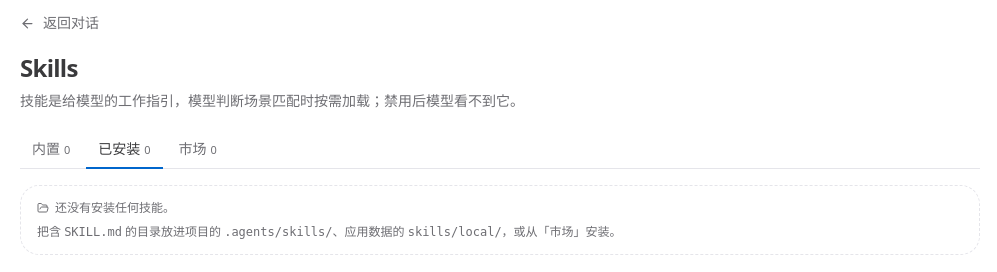
it: SkillsPage › 空列表给出目录引导
This screenshot has width=997, height=272.
expect the text "还没有安装任何技能。" is shown: met, box [37,199,175,216]
expect the text ".agents/skills/" is shown: met, box [224,224,333,238]
Click the tab "内置0" at (51, 150), box [20,131,82,169]
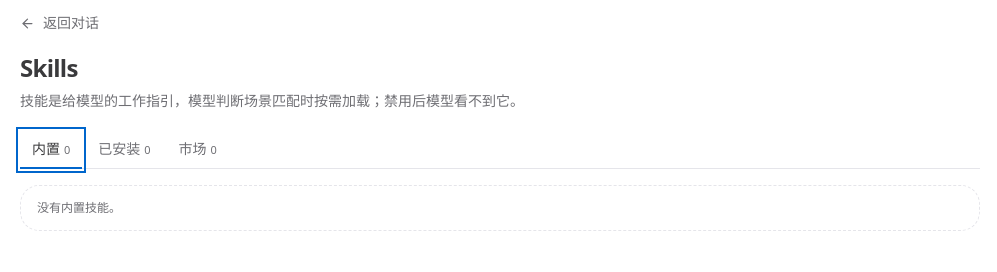
expect the text "没有内置技能。" is shown: met, box [20,185,980,230]
